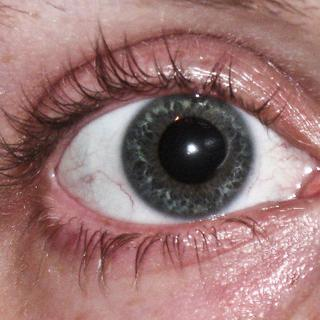pupil: (159, 117, 227, 185)
